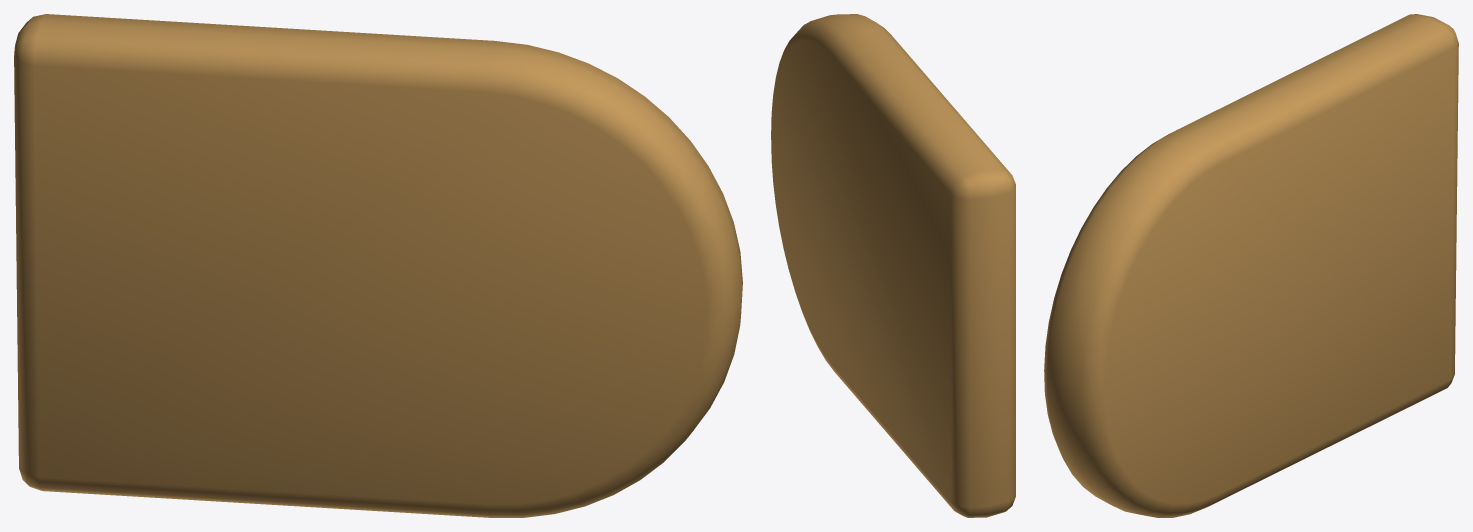
The model's file is C.Item.02.glb.
3 renders of one model, left to right at view 1: azimuth 30°, elevation 25°; view 2: azimuth 150°, elevation 25°; view 3: azimuth 270°, elevation 25°, orthographic. The views are drawn at different scales.
Parts seen in each view (by area): view 1: C.Item.02; view 2: C.Item.02; view 3: C.Item.02.
Boxes of the visible parts, x1,y1,x2,y2 form: C.Item.02: [14, 14, 742, 517]; C.Item.02: [771, 14, 1015, 517]; C.Item.02: [1044, 14, 1458, 517].
Size of the model in its own units: 0.1387 by 0.1186 by 0.1193.
